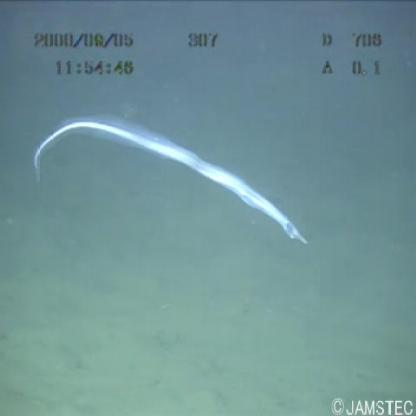Bio: (22, 115, 313, 257)
